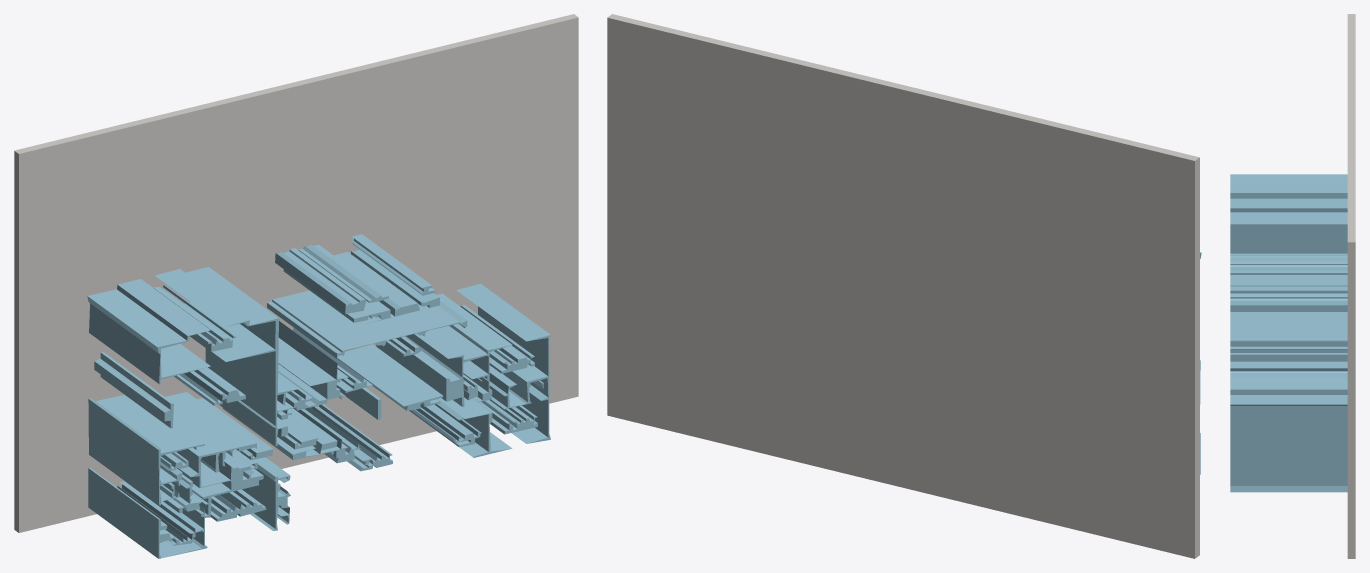
3 views of the same model, side by side, from view 1: azimuth 30°, elevation 25°; view 2: azimuth 150°, elevation 25°; view 3: azimuth 270°, elevation 25° (orthographic). The views are drawn at different scales.
Parts seen in each view (by area): view 1: world; view 2: world; view 3: world.
Boxes of the visible parts, bbox=[...] form: world: bbox=[14, 14, 578, 558]; world: bbox=[607, 14, 1201, 558]; world: bbox=[1230, 14, 1355, 558].
Size of the model in its own units: 10.23 by 6.62 by 2.37.
